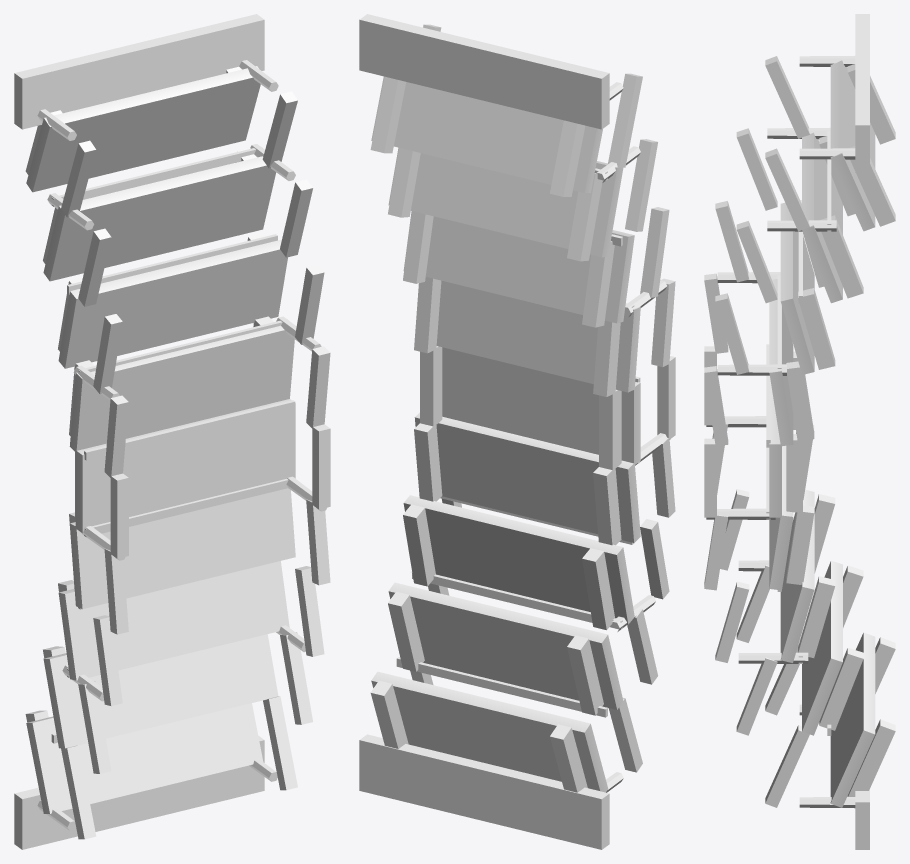
The model's file is SM_Kyobashi_Bridge.glb.
3 views of the same model, side by side, from view 1: azimuth 30°, elevation 25°; view 2: azimuth 150°, elevation 25°; view 3: azimuth 270°, elevation 25° (orthographic). The views are drawn at different scales.
Visible parts, largest first — view 1: asset_kyobashi; view 2: asset_kyobashi; view 3: asset_kyobashi.
Boxes of the visible parts, bbox=[...] form: asset_kyobashi: bbox=[14, 14, 330, 849]; asset_kyobashi: bbox=[359, 14, 675, 849]; asset_kyobashi: bbox=[704, 14, 895, 849].
Size of the model in its own units: 2.5 by 7.6 by 1.82.
Materials: 1 (1 with a texture image).
